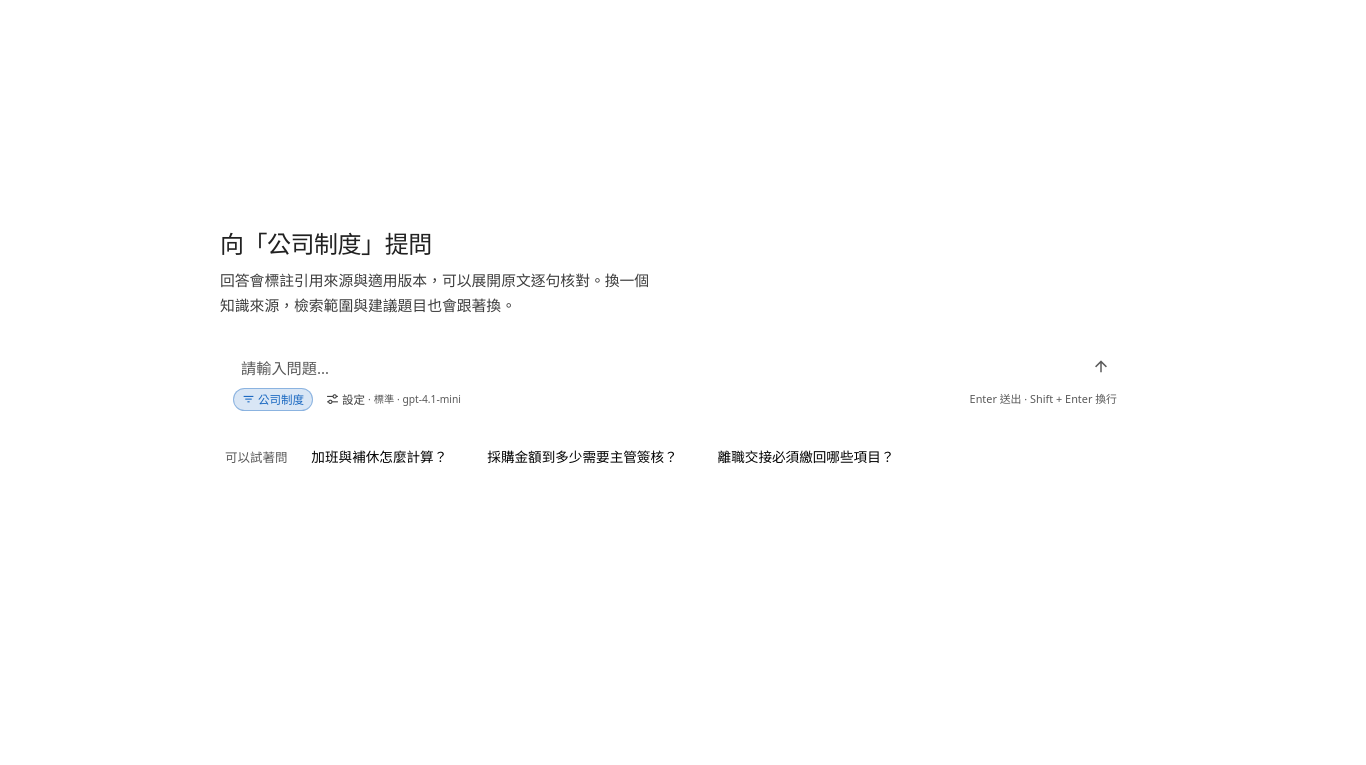
it: AskView knowledge source dialog › should group compact name-only sources by ownership with an accessible dialog name
Click the button with id "knowledge-source-trigger" at (273, 400), box [233,388,313,411]
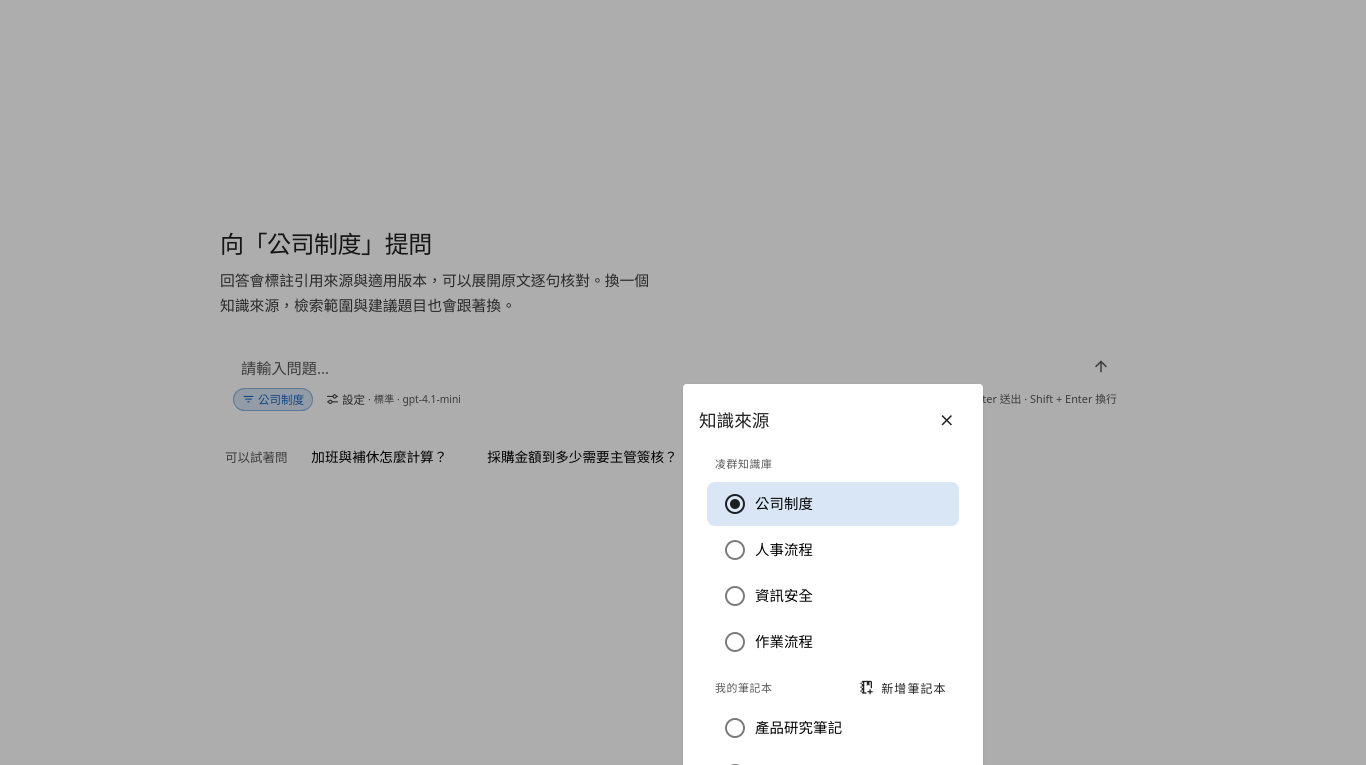
Now the button with id "knowledge-source-trigger" is expanded, box [233,388,313,411]
Now the element with id "knowledge-source-dialog" shows "凌群知識庫", box [715,456,773,471]
Now the element with id "knowledge-source-dialog" shows "我的筆記本", box [715,680,773,695]
